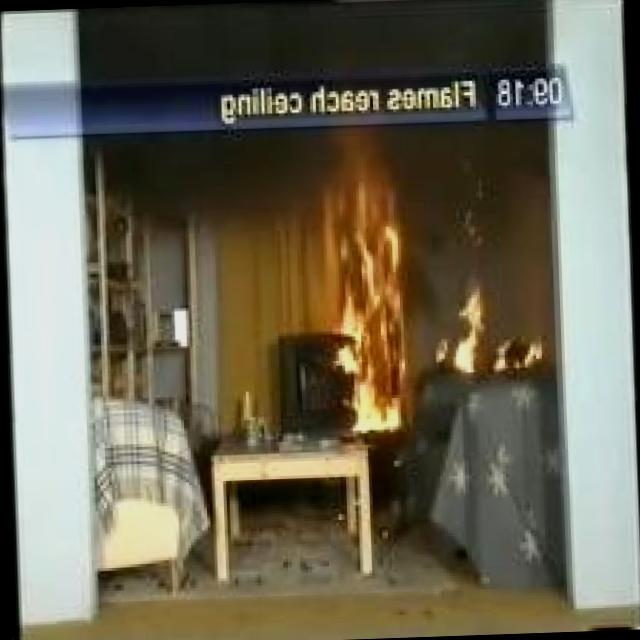fire: (322, 168, 466, 450)
